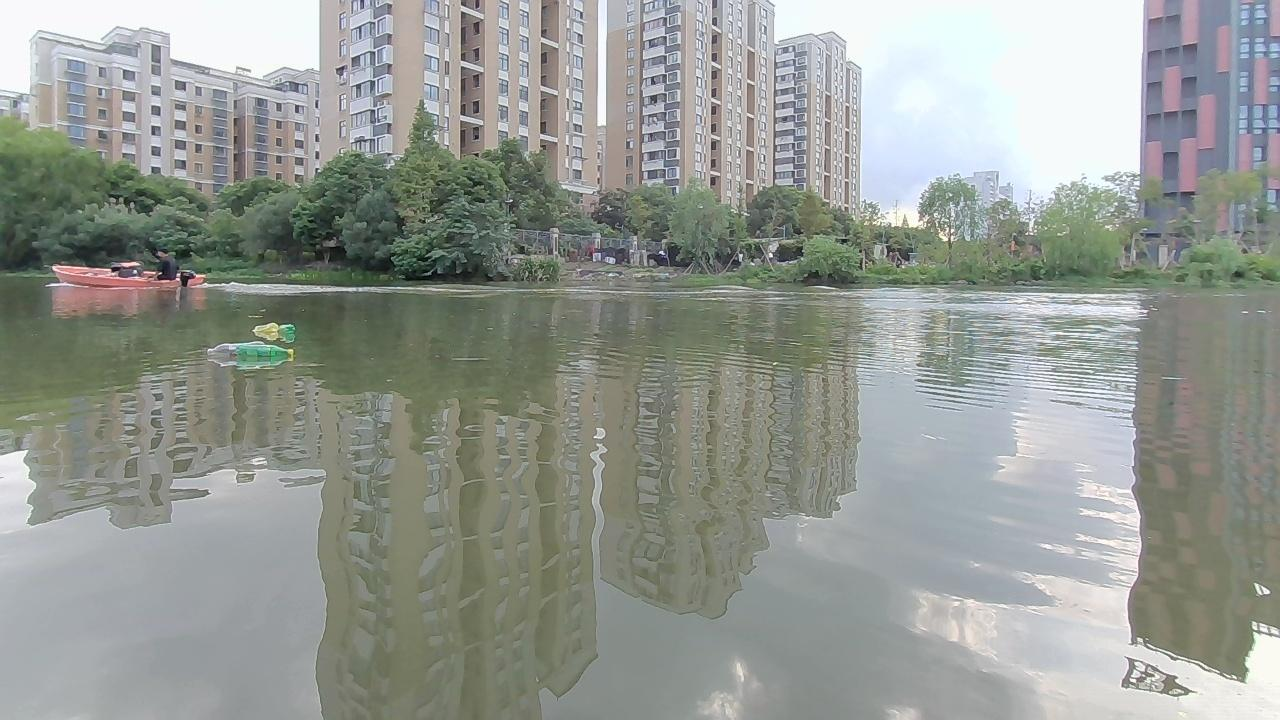bottle: (237, 342, 294, 364), (202, 337, 248, 362), (272, 322, 294, 338), (253, 323, 276, 337)
